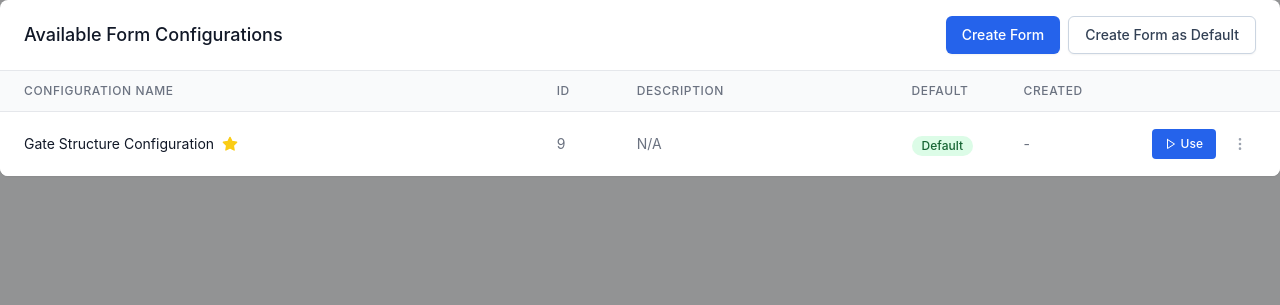
Test: FormConfigurationTable export/import (KNG-138) › offers Export JSON in the row menu
Click the button named "More actions for Gate Structure Configuration" at (1240, 144), box [1224,128,1256,160]
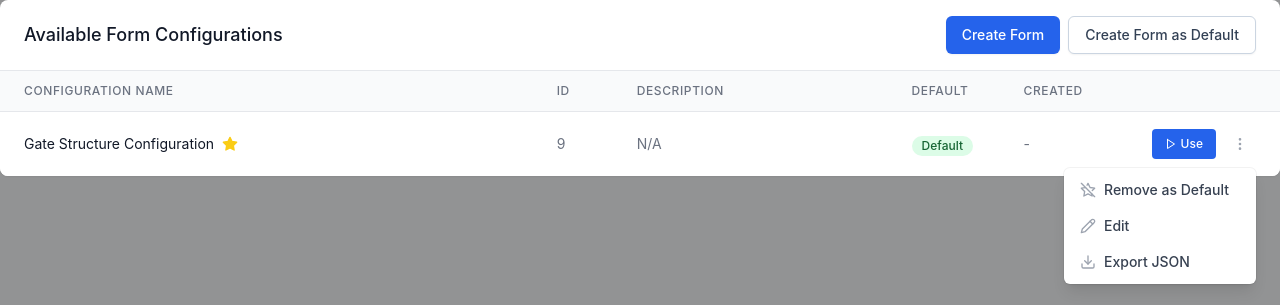
Click the menu item "Export JSON" at (1160, 262), box [1064,244,1256,280]
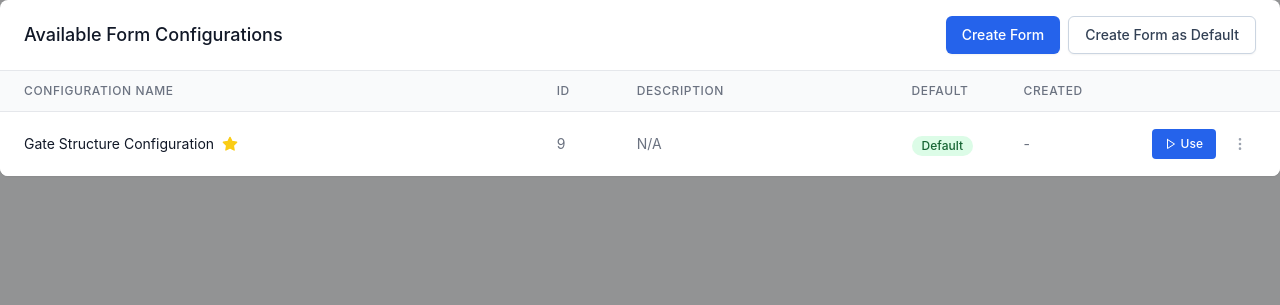
Result: the menu item "Export JSON" is gone
